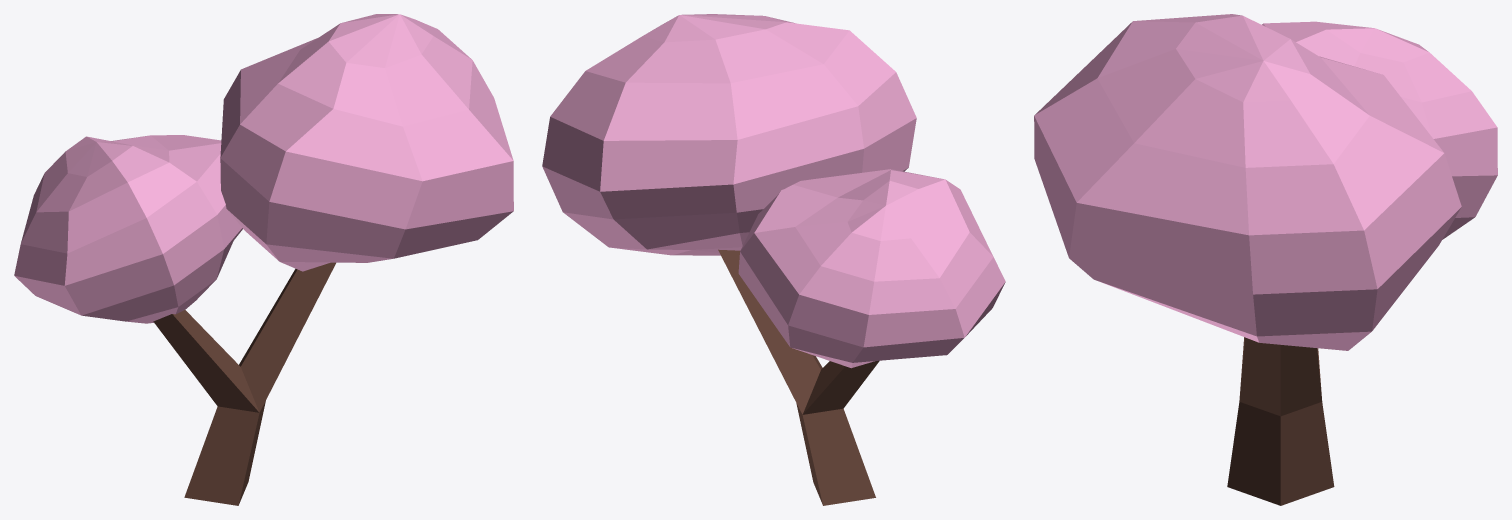
File: CherryBlossm_high.fbx
3 renders of one model, left to right at view 1: azimuth 30°, elevation 25°; view 2: azimuth 150°, elevation 25°; view 3: azimuth 270°, elevation 25°, orthographic. The views are drawn at different scales.
Visible parts, largest first — view 1: Cylinder.008; view 2: Cylinder.008; view 3: Cylinder.008.
Boxes of the visible parts, <box> form: Cylinder.008: <box>14,14,513,505</box>; Cylinder.008: <box>542,14,1005,505</box>; Cylinder.008: <box>1034,14,1497,505</box>.
Bounding box in the file's own units: 1124 × 1089 × 863.
